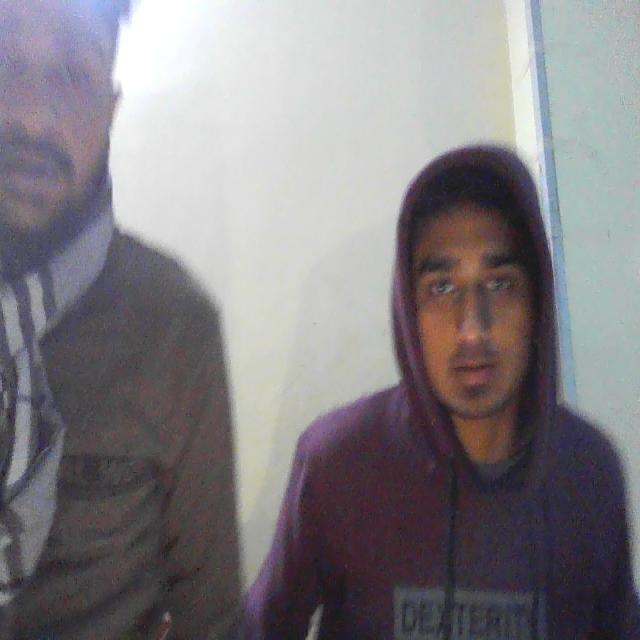real: (386, 124, 562, 456)
